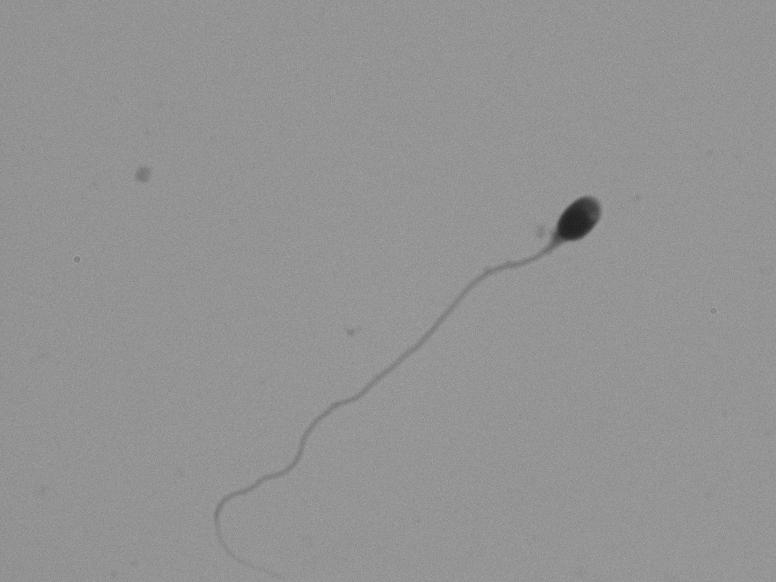Normal: (176, 141, 689, 556)
